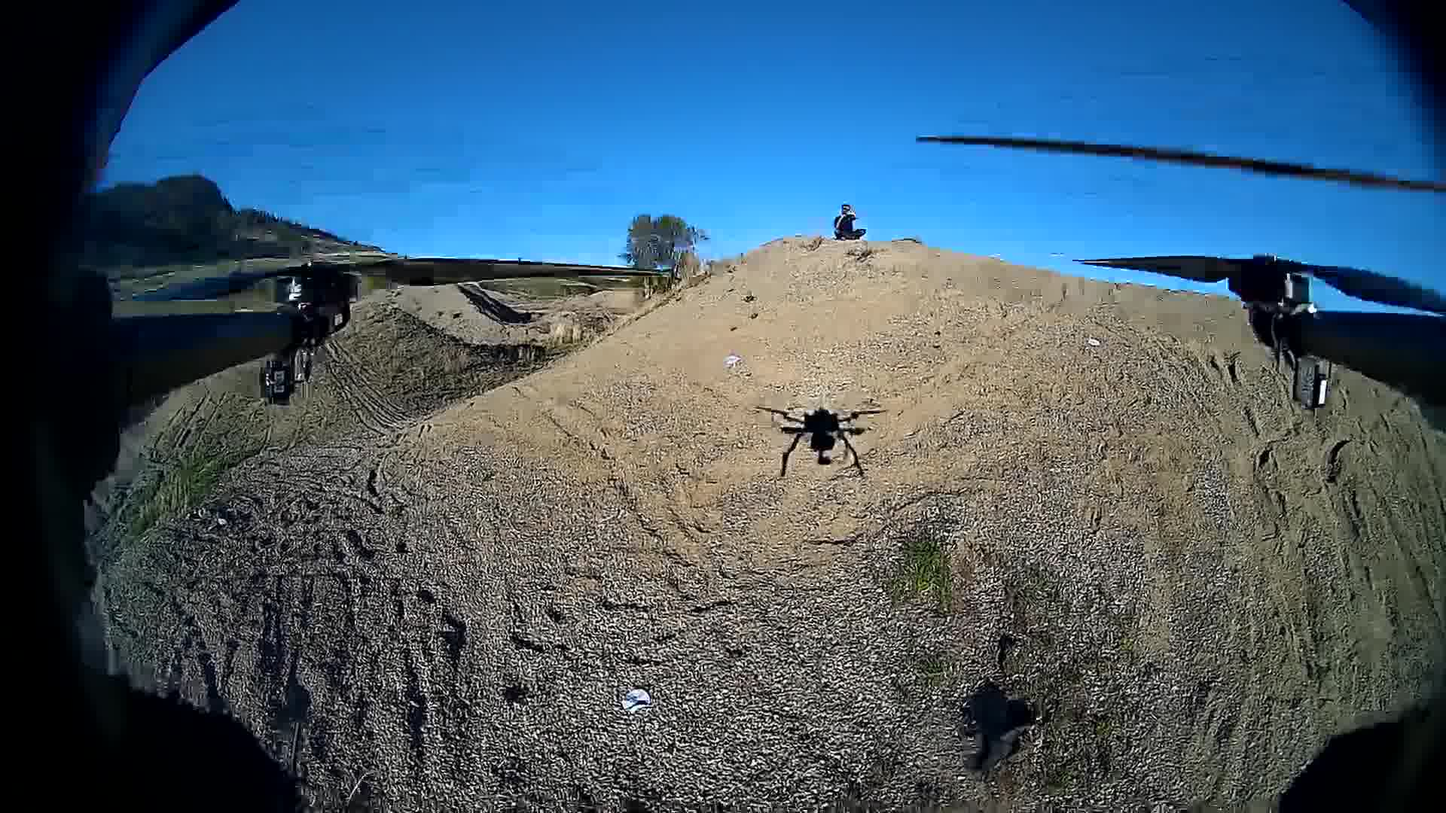Target: (620, 688, 652, 712), (1085, 334, 1102, 349), (725, 355, 741, 365)
